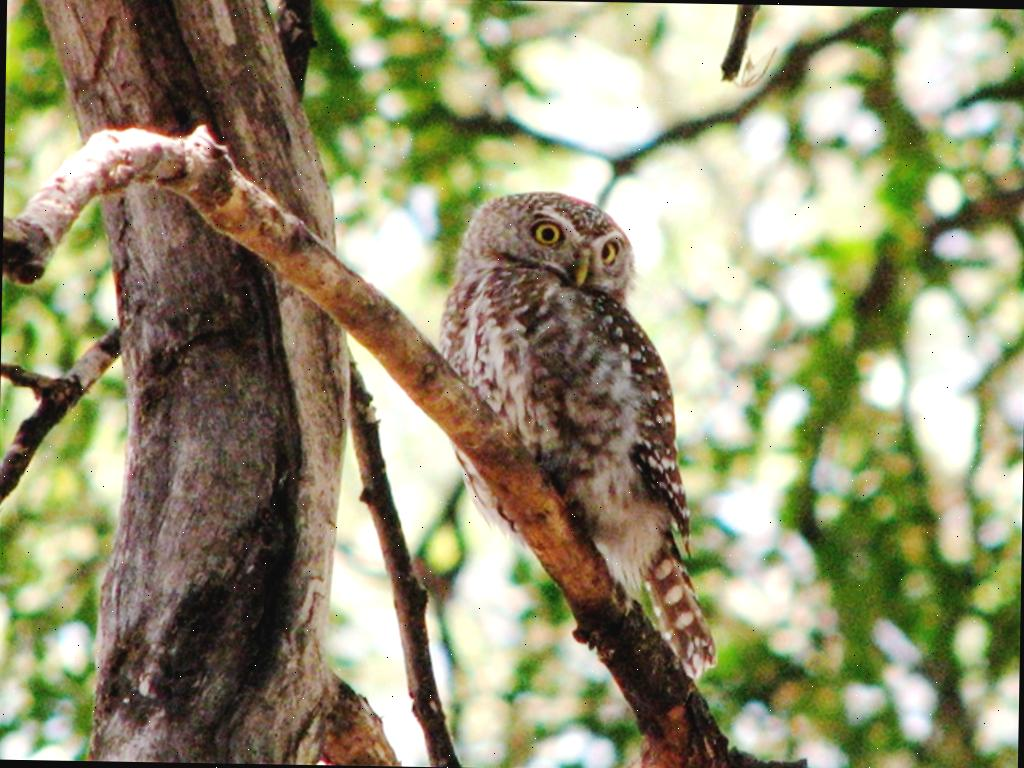Owl: (428, 187, 730, 682)
